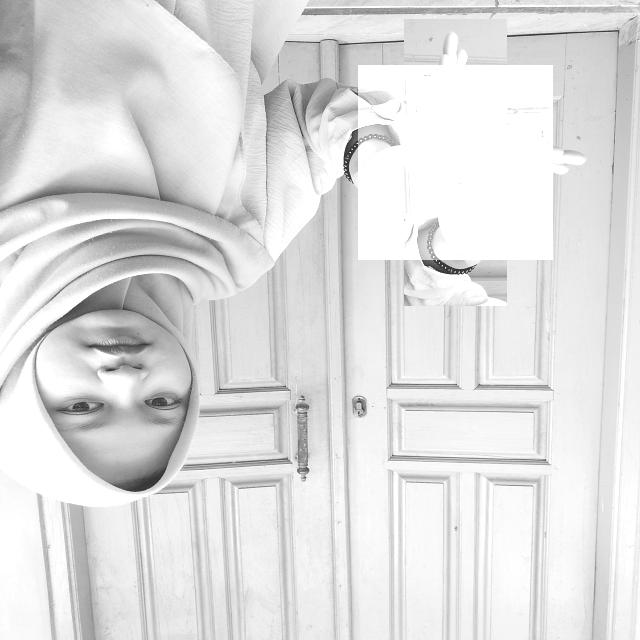adik: (358, 65, 553, 260)
